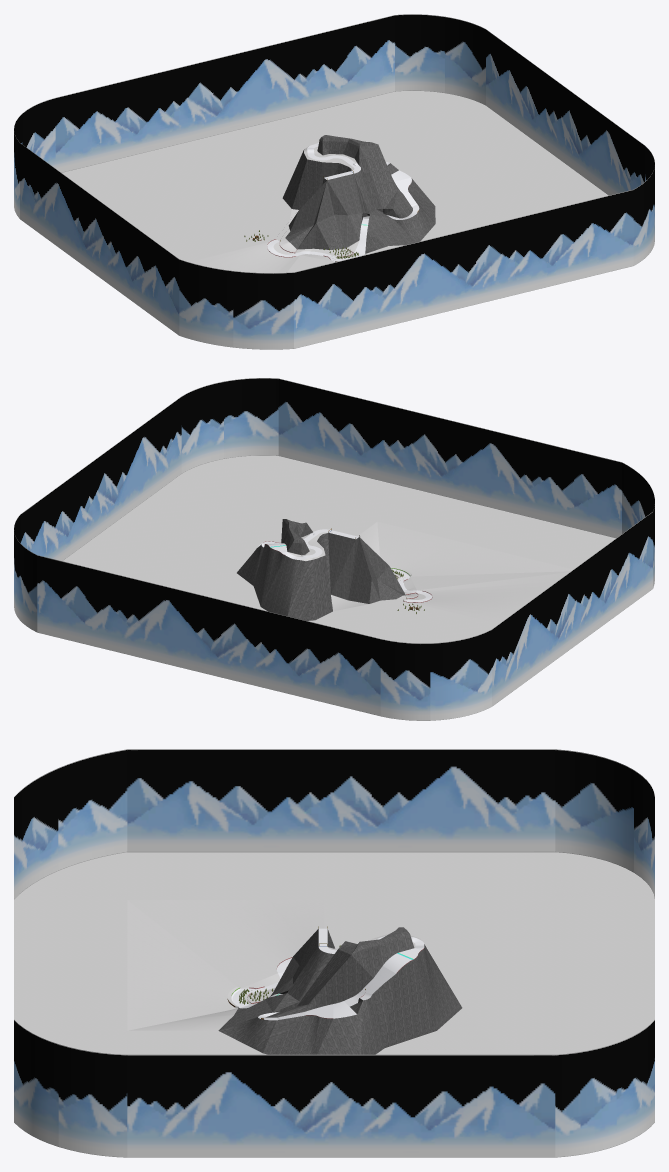
3 views of the same model, one above another, from view 1: azimuth 30°, elevation 25°; view 2: azimuth 150°, elevation 25°; view 3: azimuth 270°, elevation 25° (orthographic). The views are drawn at different scales.
Visible parts, largest first — view 1: course-SKP--background, course-SKP--offroad.001, course-SKP--wall.002, course-SKP--road.002; view 2: course-SKP--background, course-SKP--offroad.001, course-SKP--wall.002, course-SKP--road.002; view 3: course-SKP--background, course-SKP--offroad.001, course-SKP--wall.002, course-SKP--road.002.
Part boxes in pixels (x1,y1,x2,y2): course-SKP--background: [14, 14, 654, 349]; course-SKP--offroad.001: [62, 91, 608, 273]; course-SKP--wall.002: [282, 135, 435, 253]; course-SKP--road.002: [267, 142, 419, 261]; course-SKP--background: [14, 378, 654, 720]; course-SKP--offroad.001: [62, 455, 615, 643]; course-SKP--wall.002: [237, 519, 405, 620]; course-SKP--road.002: [257, 529, 432, 602]; course-SKP--background: [14, 749, 654, 1157]; course-SKP--offroad.001: [14, 852, 654, 1054]; course-SKP--wall.002: [218, 927, 462, 1054]; course-SKP--road.002: [231, 928, 424, 1020].
Bounding box in the file's own units: 279557 × 46898 × 247874.
21 materials, 20 textured.
